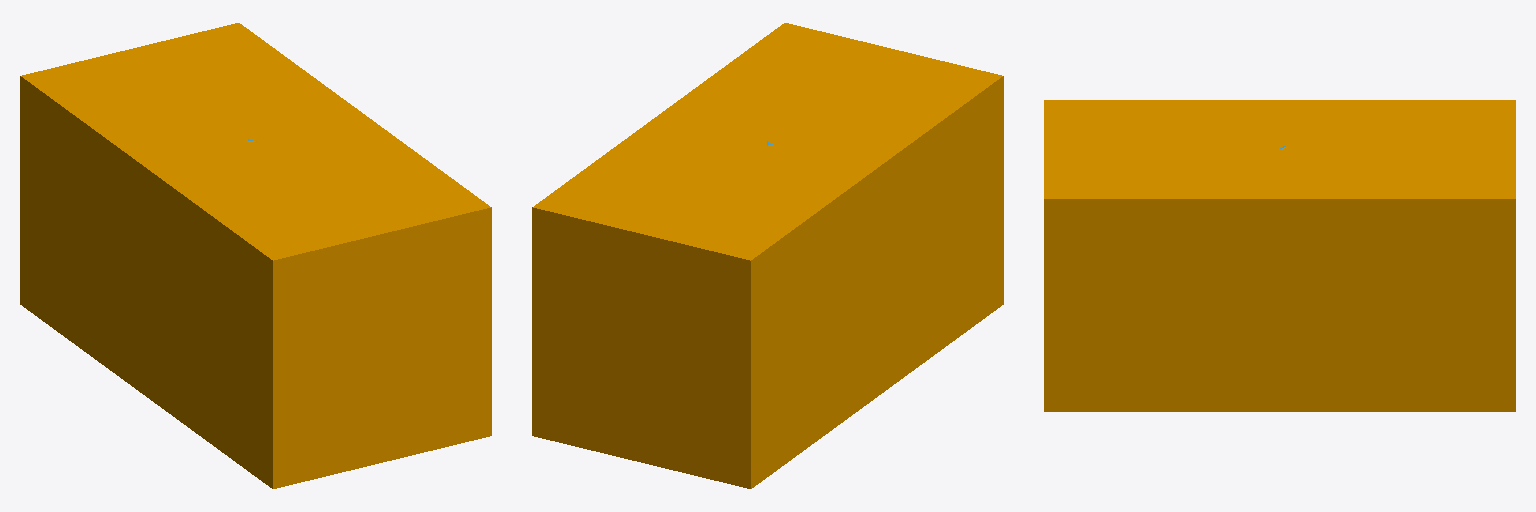
robot.urdf — oculus:
<?xml version="1.0"?>
<robot name="oculus">
  <link name="oculus">
    <visual>
      <geometry>
        <box size="0.1 0.2 0.1"/>
      </geometry>
      <origin rpy="0 0 0" xyz="0 0 0"/>
    </visual>
  </link>
  <joint name="oculus_to_rcontroller" type="revolute">
    <parent link="oculus"/>
    <child link="oculus_right_controller"/>
    <origin rpy="0 0 0" xyz="0 0 0"/>
    <axis xyz="0 0 1.0"/>
    <limit effort="2.666" lower="-1.56207" upper="-0.00872665" velocity="9.22756"/>
  </joint>
  <link name="oculus_right_controller">
    <visual>
      <geometry>
        <cylinder length="0.01" radius="0.05"/>
      </geometry>
      <origin rpy="0 1.6 0" xyz="0 0 0"/>
    </visual>
  </link>
  <joint name="right_controller_to_right_vrhand" type="revolute">
    <parent link="oculus_right_controller"/>
    <child link="oculus_right_vrhand"/>
    <origin rpy="0 0 0" xyz="0 0 0"/>
    <axis xyz="0 0 1.0"/>
    <limit effort="2.666" lower="-1.56207" upper="-0.00872665" velocity="9.22756"/>
  </joint>
  <link name="oculus_right_vrhand">
    <visual>
      <geometry>
        <mesh filename="package://pepper_surrogate/meshes/Hand.dae" scale="0.05 0.05 0.05"/>
      </geometry>
      <origin rpy="0 0.8 3.14" xyz="0 0 0"/>
    </visual>
  </link>
</robot>

--- Render facts (derived) ---
Views: 3 orthographic renders of the robot side by side, from view 1: azimuth 30°, elevation 25°; view 2: azimuth 150°, elevation 25°; view 3: azimuth 270°, elevation 25°.
Model oculus with 3 links and 2 joints (2 revolute), rooted at oculus, posed joints at zero except 2 at the middle of their limits (oculus_to_rcontroller = -0.7854, right_controller_to_right_vrhand = -0.7854).
Visible links, largest first — view 1: oculus; view 2: oculus; view 3: oculus.
Link boxes in pixels (x1,y1,x2,y2): oculus: (20,23,491,488); oculus: (532,23,1003,488); oculus: (1044,100,1515,411).
Bounding box of the posed robot: 0.1 × 0.2 × 0.1002 m (x, y, z).
Meshes: 1 distinct files referenced, 0 mesh visuals loaded (none loaded); not drawn: 1 (reference not matched to a file when rendering).